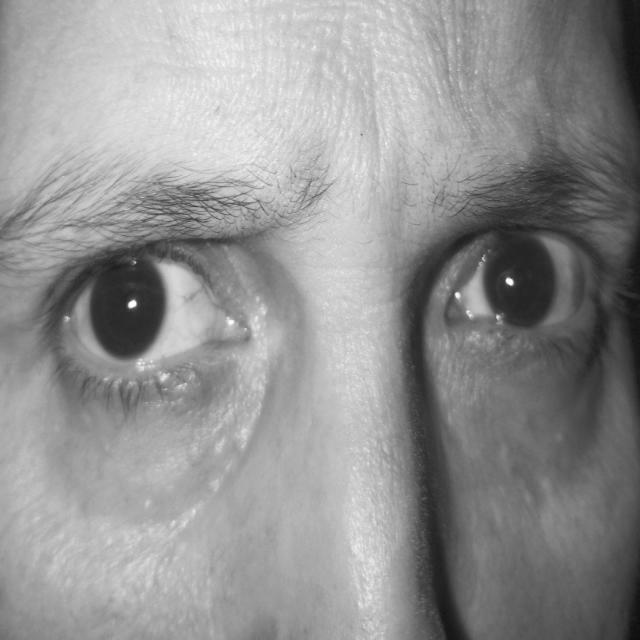real: (20, 110, 634, 480)
